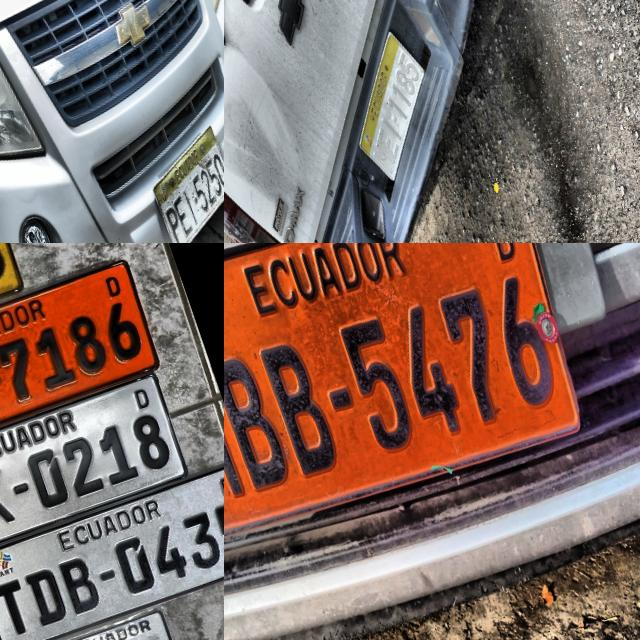license_plate: (224, 243, 611, 585), (0, 460, 224, 640), (0, 373, 191, 568), (0, 255, 163, 465), (356, 22, 426, 185), (148, 116, 224, 243)
